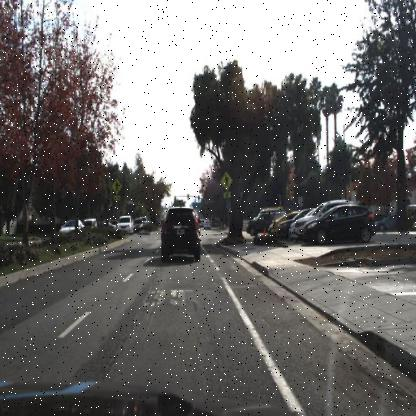car: (302, 200, 377, 244), (158, 203, 202, 266), (276, 206, 314, 238), (291, 205, 327, 237), (271, 209, 302, 243), (55, 212, 84, 238), (57, 216, 84, 241), (45, 214, 68, 234), (118, 216, 133, 234), (132, 216, 144, 235)
